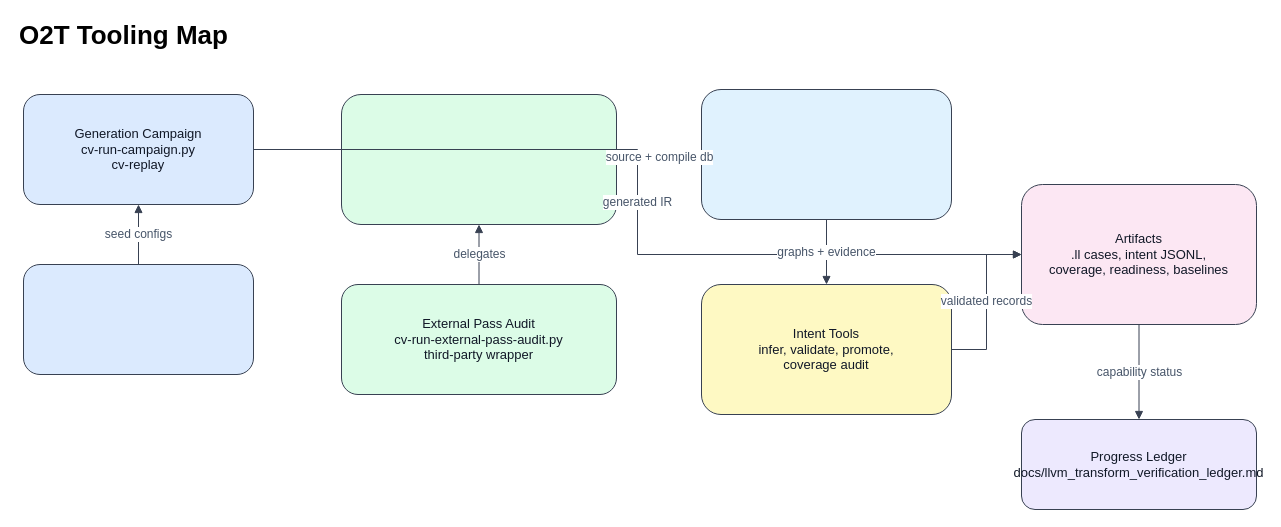
Image size: 1281x527. Some labels were removed from this diagram. The centre of each missing label's shape, as x and y in pixels:
Exploration KLEE harnesses ktest extraction: [138,319]
Native Miners cv-mine-pass-source-ast cv-mine-pass-impl-ir: [826,154]
Pass Source Audit cv-run-pass-source-audit.py orchestrates miners + validation: [478,159]
